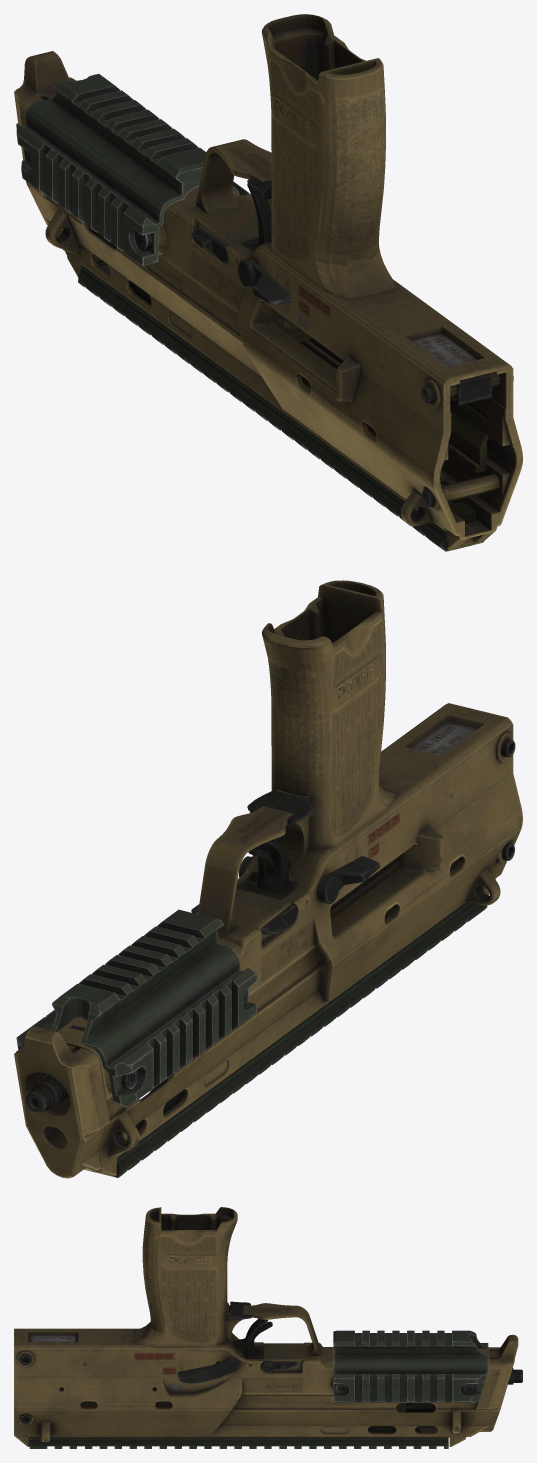
3 renders of one model, top to bottom at view 1: azimuth 30°, elevation 25°; view 2: azimuth 150°, elevation 25°; view 3: azimuth 270°, elevation 25°, orthographic. The views are drawn at different scales.
Visible parts, largest first — view 1: TW_5bd70322209c4d00d7167b8f_PZ_Import; view 2: TW_5bd70322209c4d00d7167b8f_PZ_Import; view 3: TW_5bd70322209c4d00d7167b8f_PZ_Import.
Part boxes in pixels (box(x1,y1,x2,y2)): TW_5bd70322209c4d00d7167b8f_PZ_Import: box(14, 14, 522, 551); TW_5bd70322209c4d00d7167b8f_PZ_Import: box(14, 580, 522, 1178); TW_5bd70322209c4d00d7167b8f_PZ_Import: box(14, 1207, 522, 1448).
Size of the model in its own units: 0.0293 by 0.1971 by 0.0978.
Materials: 1 (1 with a texture image).
